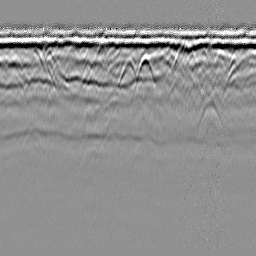cavity: (118, 53, 137, 91)
